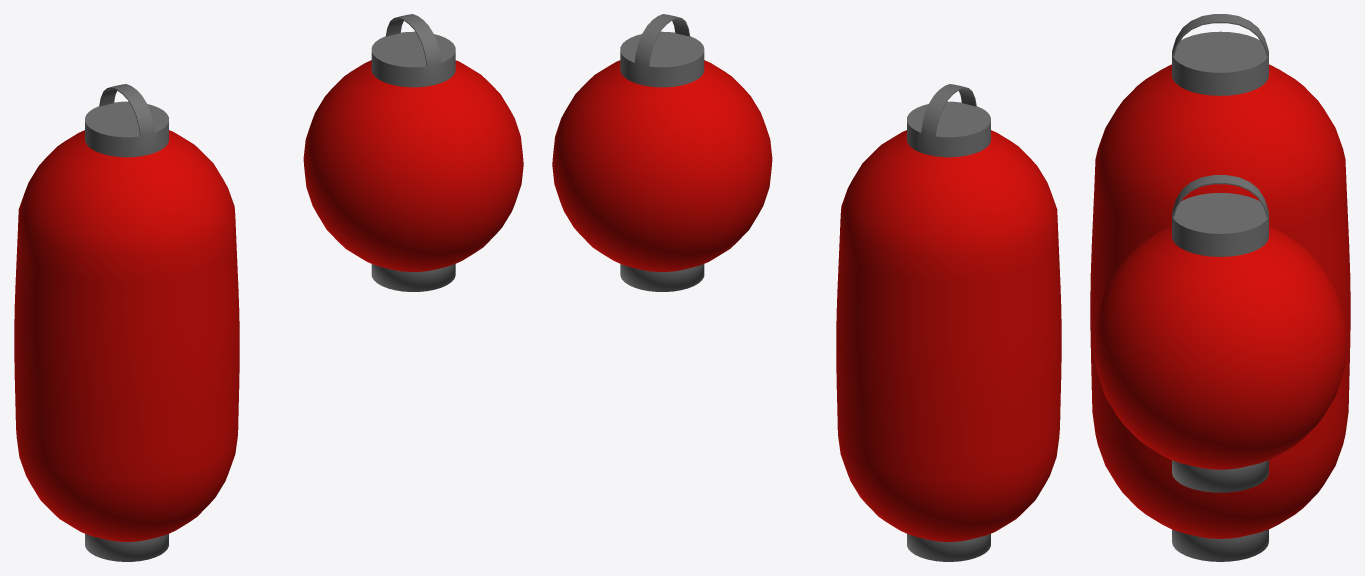
File: Lampions_Blender.fbx
3 views of the same model, side by side, from view 1: azimuth 30°, elevation 25°; view 2: azimuth 150°, elevation 25°; view 3: azimuth 270°, elevation 25° (orthographic). The views are drawn at different scales.
Parts seen in each view (by area): view 1: Lampion_Tall, Lampion_Small; view 2: Lampion_Tall, Lampion_Small; view 3: Lampion_Tall, Lampion_Small.
Part boxes in pixels (<box>): Lampion_Tall: <box>14,84,239,561</box>; Lampion_Small: <box>303,14,523,291</box>; Lampion_Tall: <box>836,84,1061,561</box>; Lampion_Small: <box>552,14,772,291</box>; Lampion_Tall: <box>1090,14,1350,561</box>; Lampion_Small: <box>1093,175,1347,492</box>.
Bounding box in the file's own units: 5.02 × 4.55 × 2.05.
